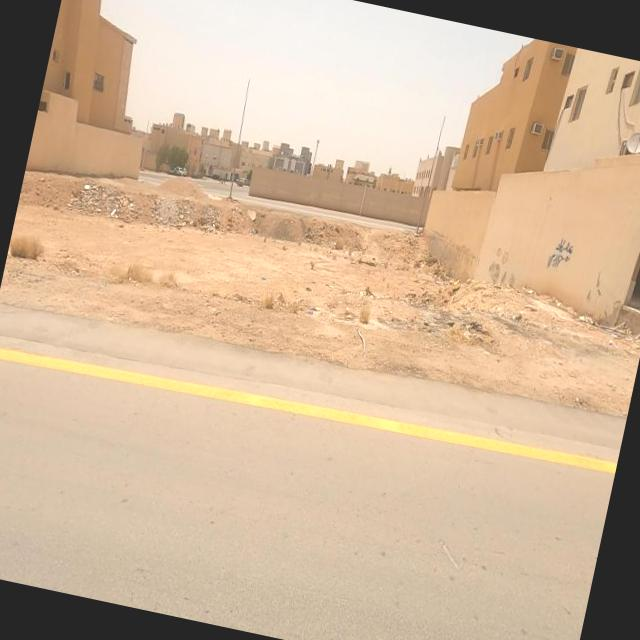debris: (410, 272, 535, 398), (510, 198, 611, 316), (322, 298, 400, 383)
